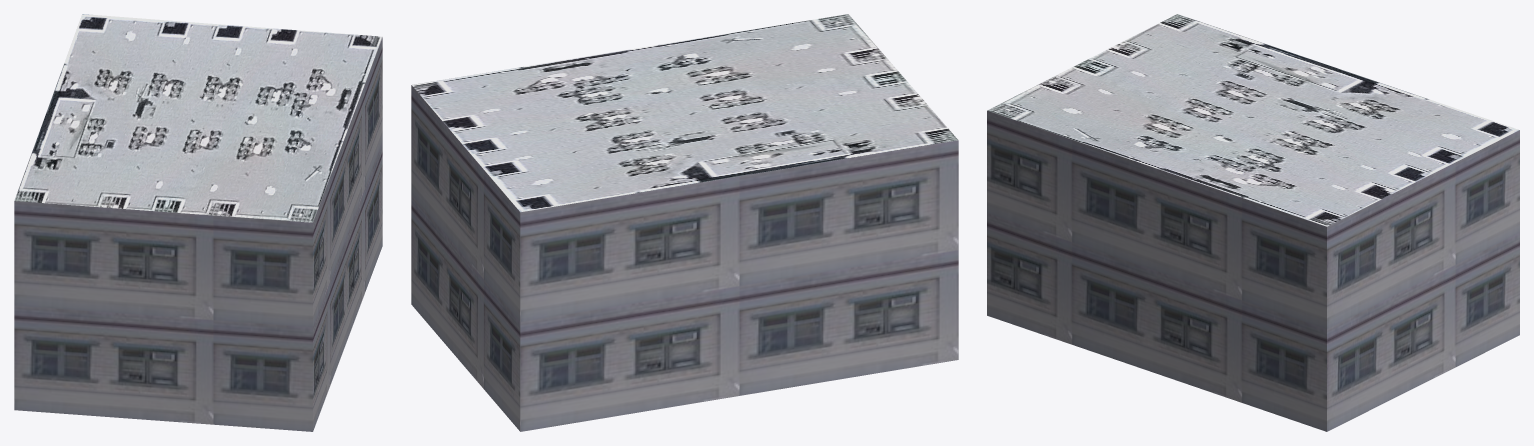
File: ResTex__2340.fbx
The picture shows the model from 3 angles, left to right: view 1: azimuth 30°, elevation 25°; view 2: azimuth 150°, elevation 25°; view 3: azimuth 270°, elevation 25°; orthographic projection. The views are drawn at different scales.
Visible parts, largest first — view 1: CityEngineMaterial_1_m, CityEngineMaterial_8_m; view 2: CityEngineMaterial_1_m, CityEngineMaterial_8_m; view 3: CityEngineMaterial_1_m, CityEngineMaterial_8_m.
Boxes of the visible parts, left/top/right/bottom form: CityEngineMaterial_1_m: left=14, top=37, right=382, bottom=431; CityEngineMaterial_8_m: left=14, top=14, right=382, bottom=222; CityEngineMaterial_1_m: left=411, top=85, right=958, bottom=431; CityEngineMaterial_8_m: left=412, top=14, right=957, bottom=212; CityEngineMaterial_1_m: left=987, top=110, right=1519, bottom=431; CityEngineMaterial_8_m: left=987, top=14, right=1519, bottom=226.
Bounding box in the file's own units: 13.35 × 6 × 14.12.
Materials: 2 (2 with a texture image).
